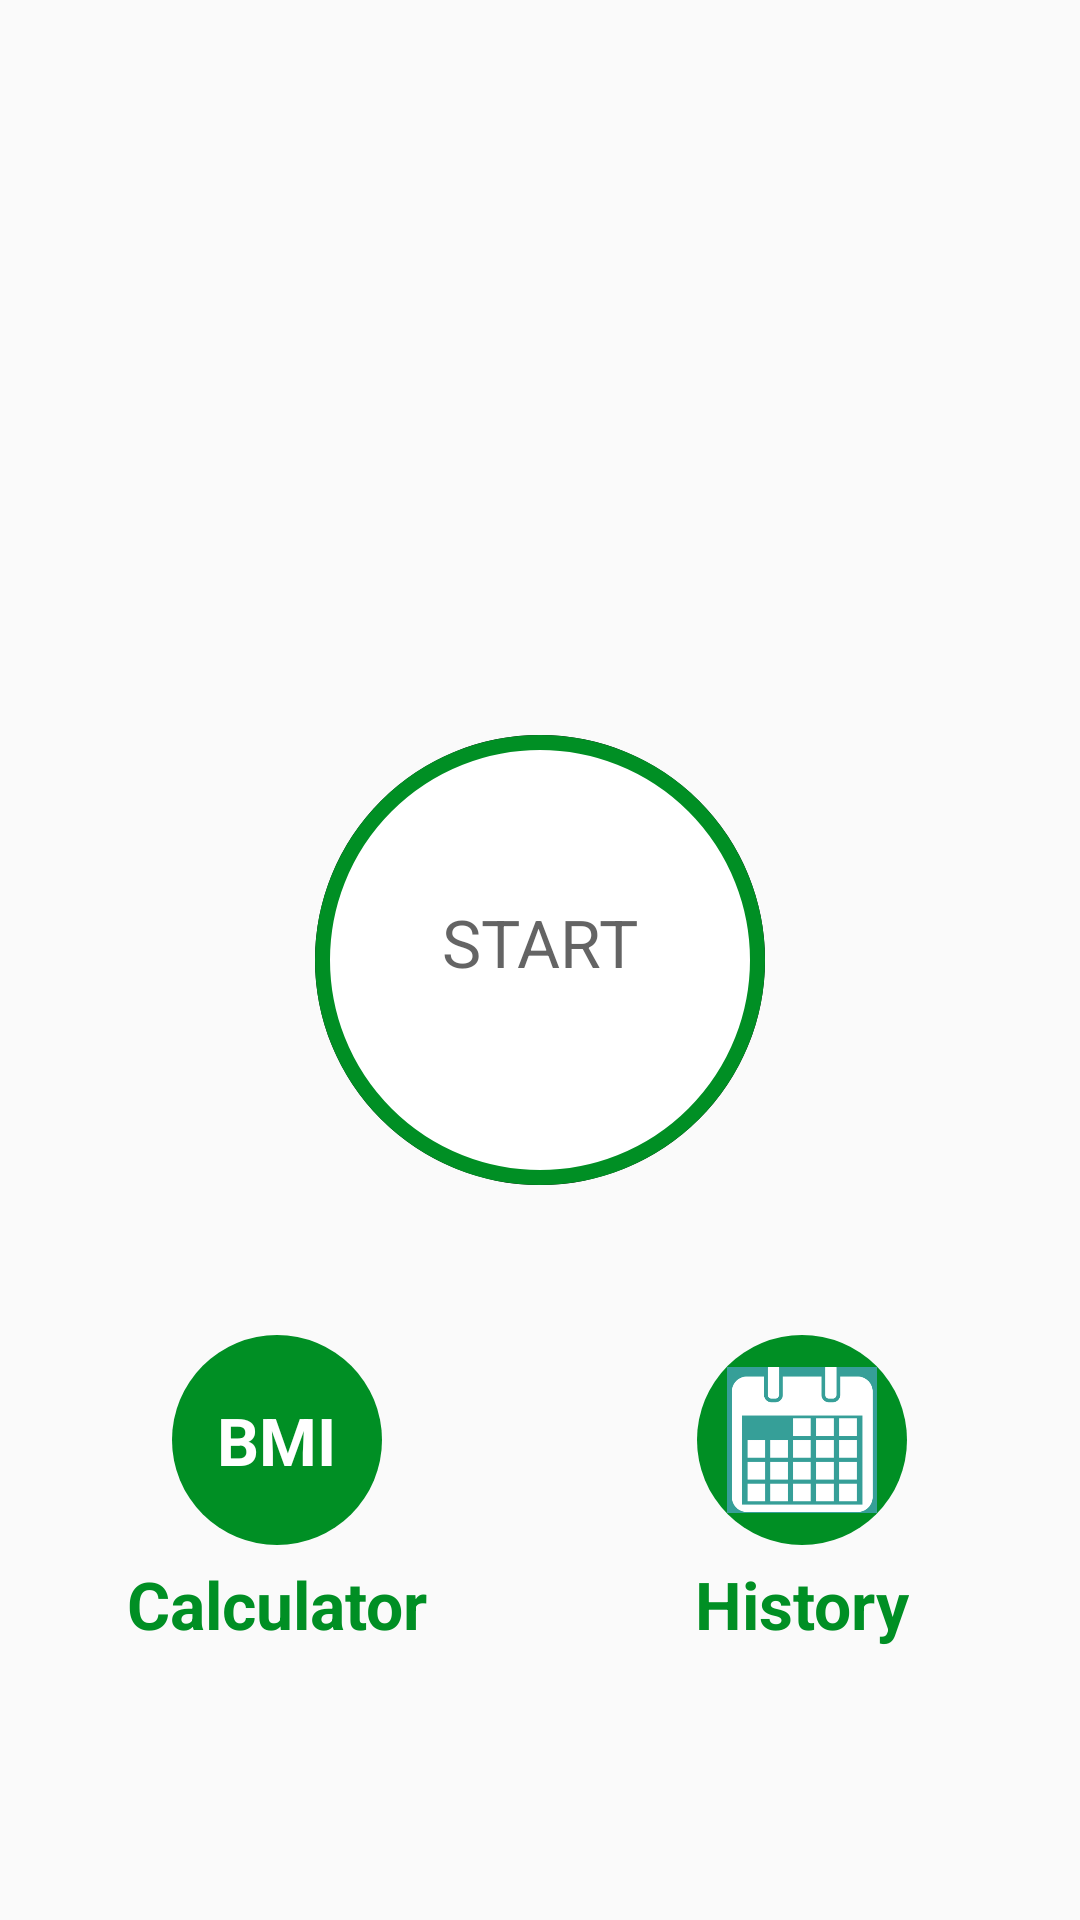

Point at icon controls on the screen. Image size 1080w x 1920h, points as (x=x, y=y).
calender: (x=802, y=1440)
